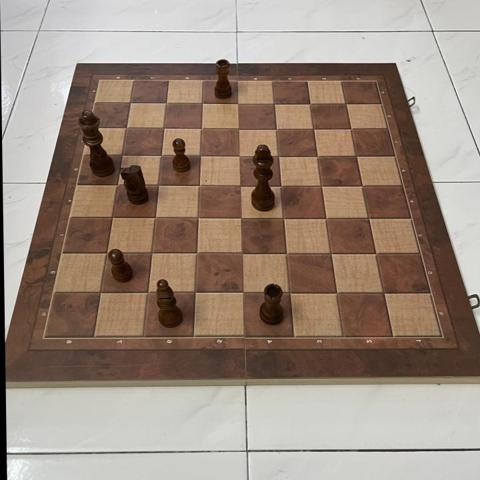xcorner: (301, 95, 318, 112), (337, 95, 354, 112), (342, 120, 359, 137), (113, 148, 130, 165), (152, 148, 169, 165), (191, 148, 208, 165), (312, 177, 329, 194), (103, 210, 120, 227), (146, 210, 163, 227), (359, 209, 376, 226), (122, 96, 138, 113), (193, 96, 210, 112), (229, 96, 246, 112), (265, 96, 282, 112), (118, 121, 134, 138), (155, 121, 171, 138), (192, 121, 209, 137), (267, 121, 284, 137), (305, 120, 321, 137), (230, 148, 247, 164), (269, 148, 286, 164), (308, 148, 325, 164), (347, 148, 364, 164), (109, 178, 125, 195), (149, 178, 166, 194), (190, 178, 207, 194), (272, 177, 288, 194), (353, 177, 369, 194), (189, 210, 205, 227), (231, 210, 248, 226), (187, 246, 204, 262), (232, 245, 248, 262), (277, 245, 293, 262), (321, 245, 338, 261), (92, 285, 108, 302), (233, 284, 249, 301), (280, 284, 296, 301), (327, 284, 343, 301), (373, 284, 390, 300), (158, 96, 174, 112), (230, 121, 246, 137), (231, 178, 247, 194), (274, 210, 290, 226), (317, 210, 333, 226), (98, 246, 114, 262), (143, 246, 159, 262), (366, 245, 382, 261), (139, 285, 155, 301), (186, 285, 202, 301)
